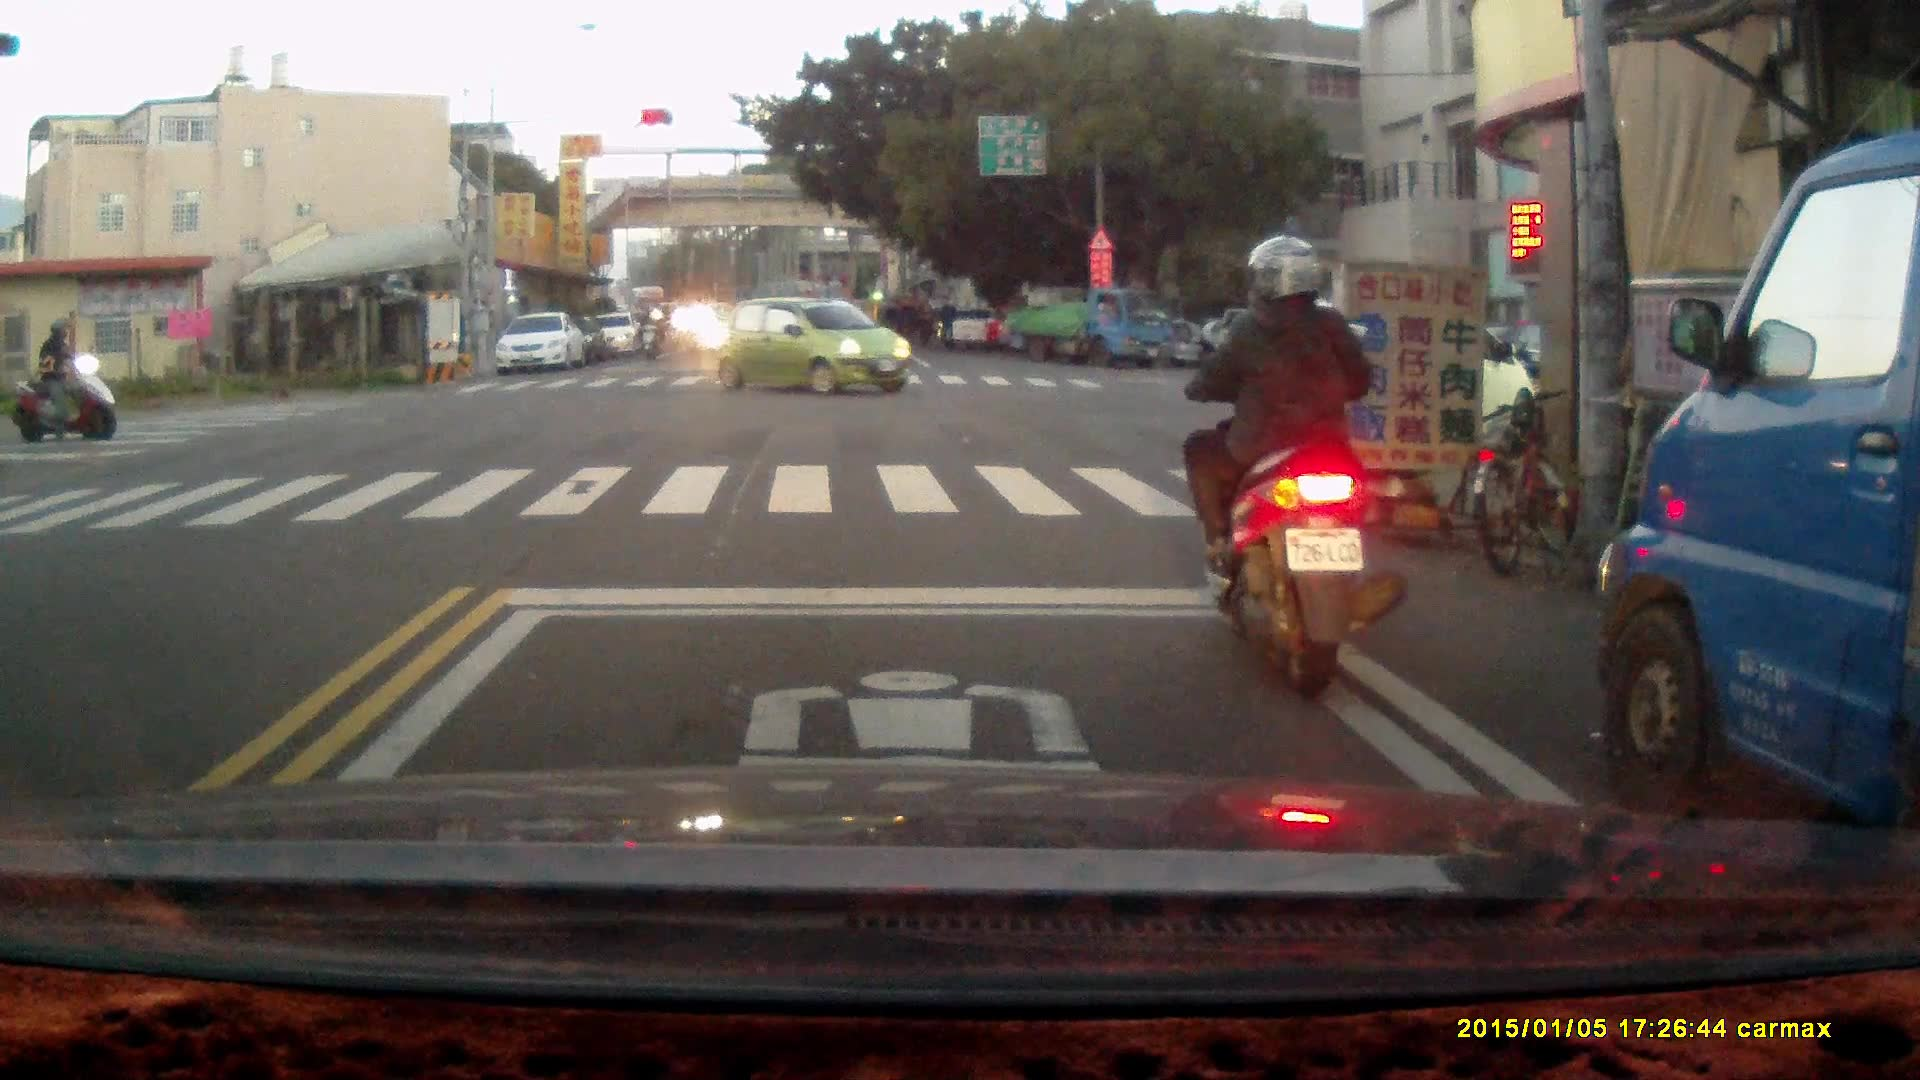rider: (1171, 229, 1420, 702), (10, 318, 119, 441), (636, 307, 663, 363)
vehicle: (1600, 132, 1920, 919), (1222, 295, 1530, 463), (716, 293, 907, 399), (1002, 284, 1177, 367), (494, 313, 587, 377), (592, 311, 642, 360)
